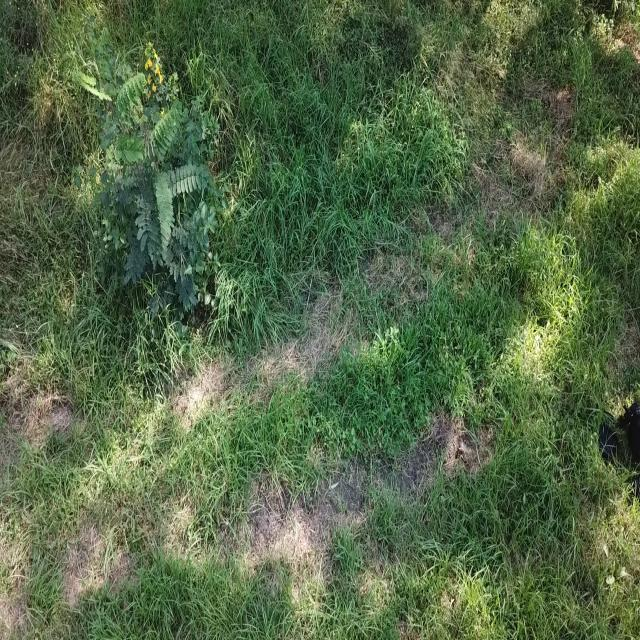Mysore-Thorn-Weed: (74, 33, 223, 316)
